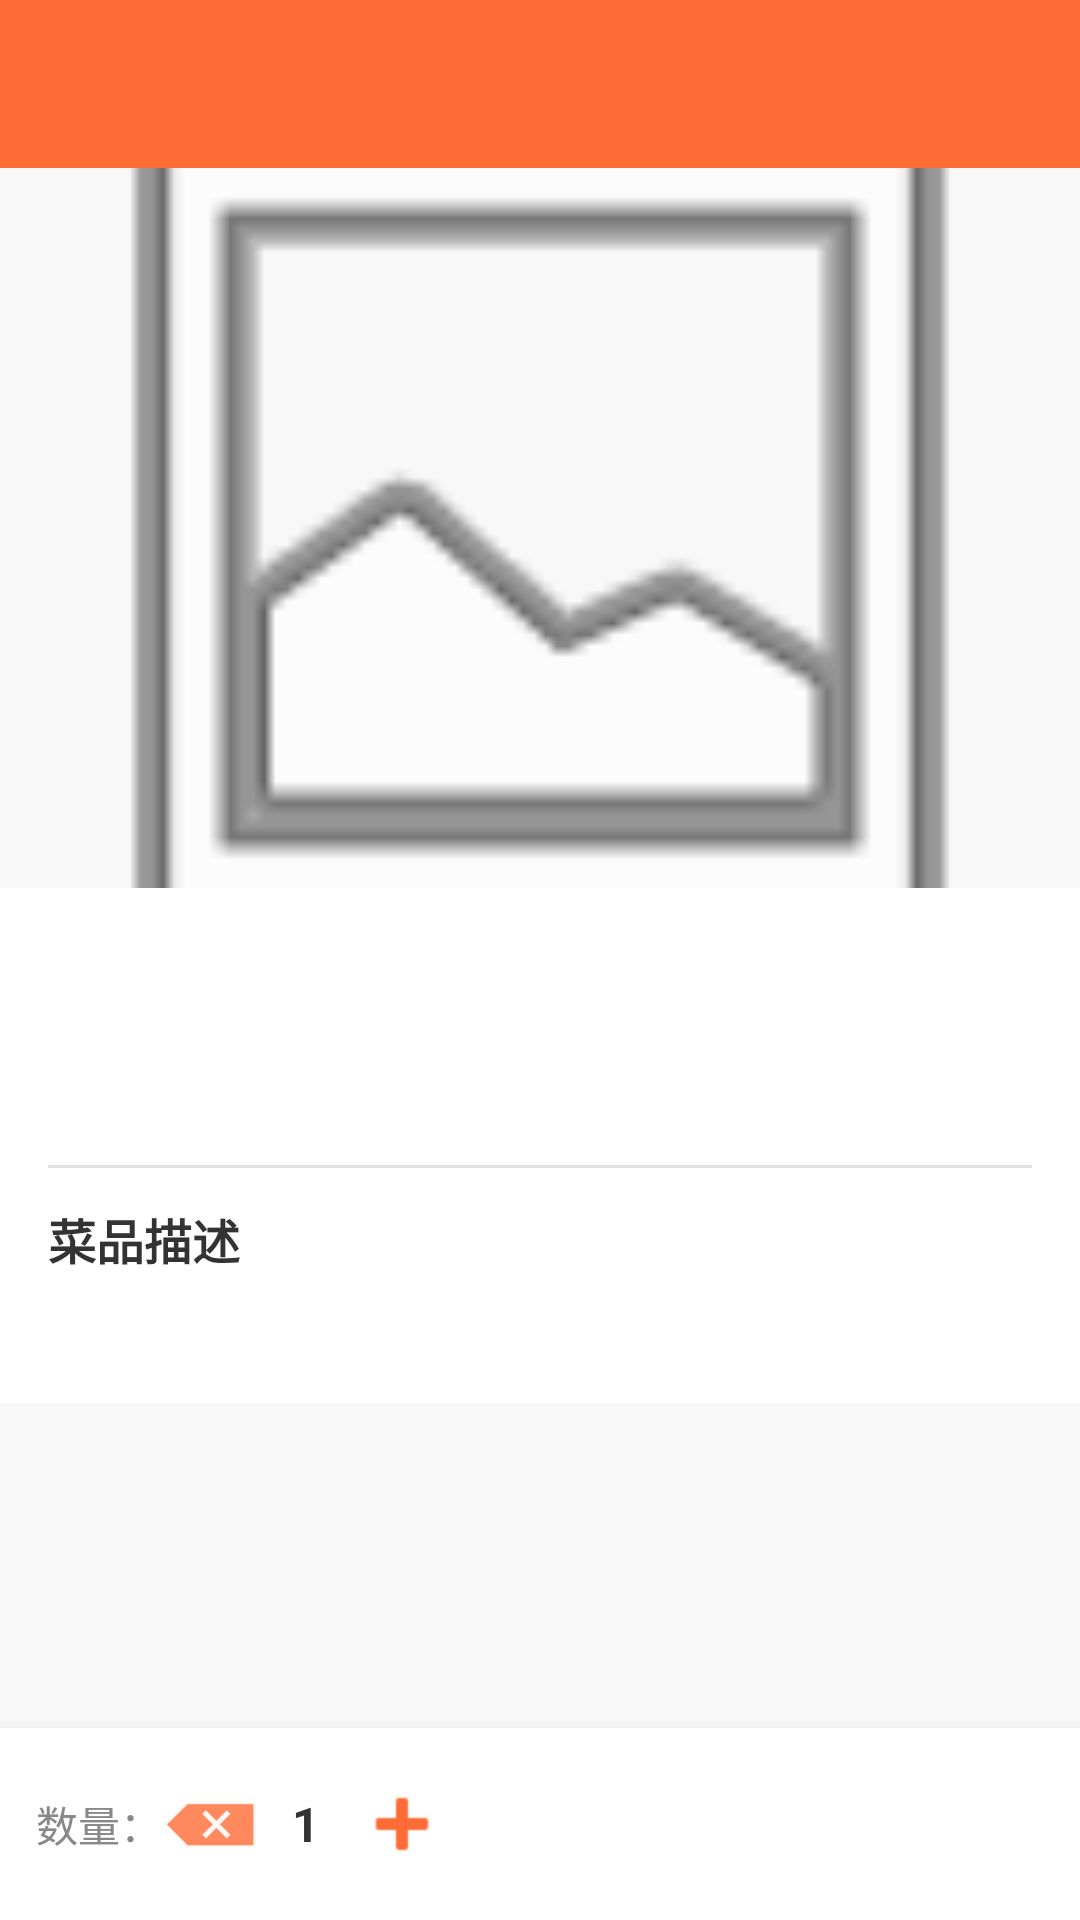

Icons on this 1080*1920 Android screen, each with the point to tap as (x=x, y=y):
减少: (x=210, y=1825)
增加: (x=402, y=1824)
